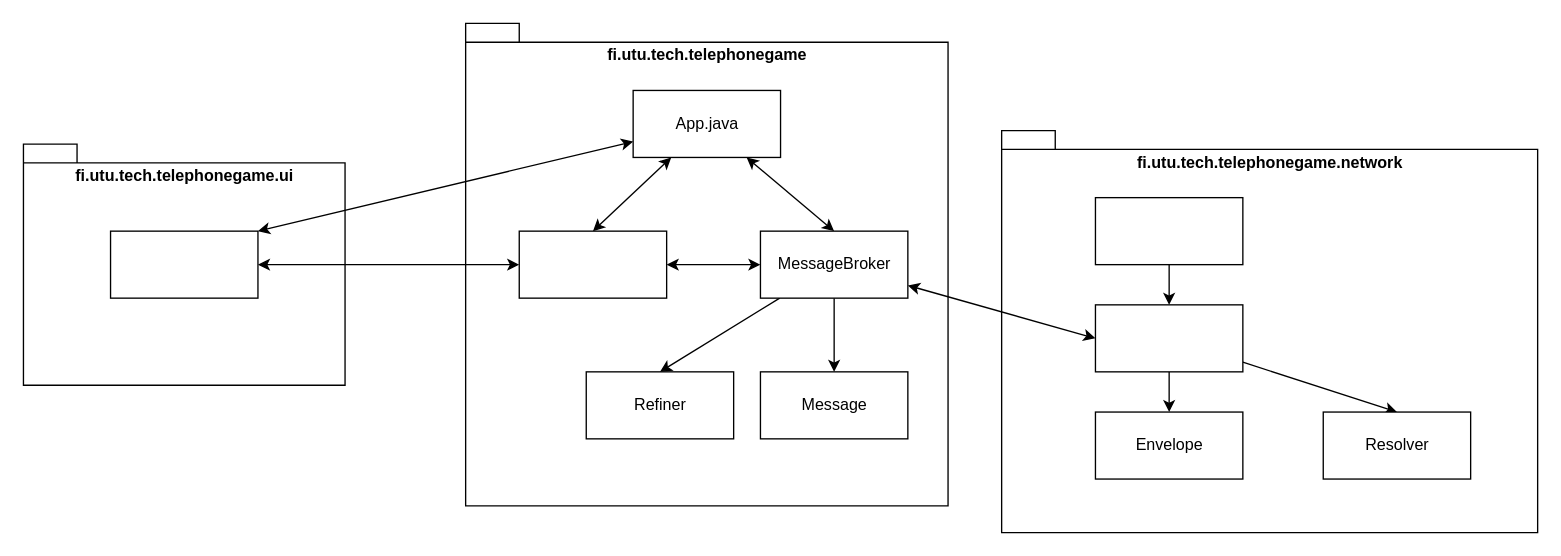
This 1561x556 diagram has some shape labels left out. Each missing label, with the centre of its shape:
Gui_io: (x=592, y=264)
MainViewController: (x=183, y=264)
NetworkService: (x=1168, y=338)
«interface» Network: (x=1168, y=230)
